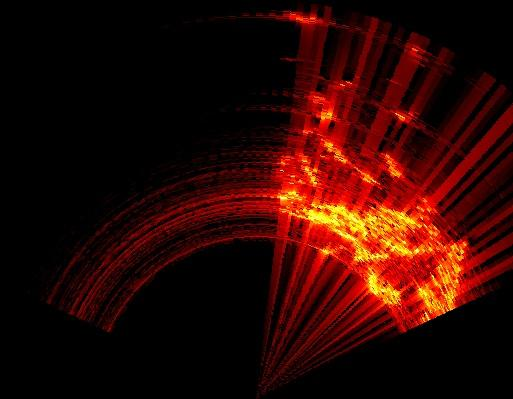shipwreck: (278, 149, 467, 327), (299, 123, 348, 164), (313, 81, 351, 124)
